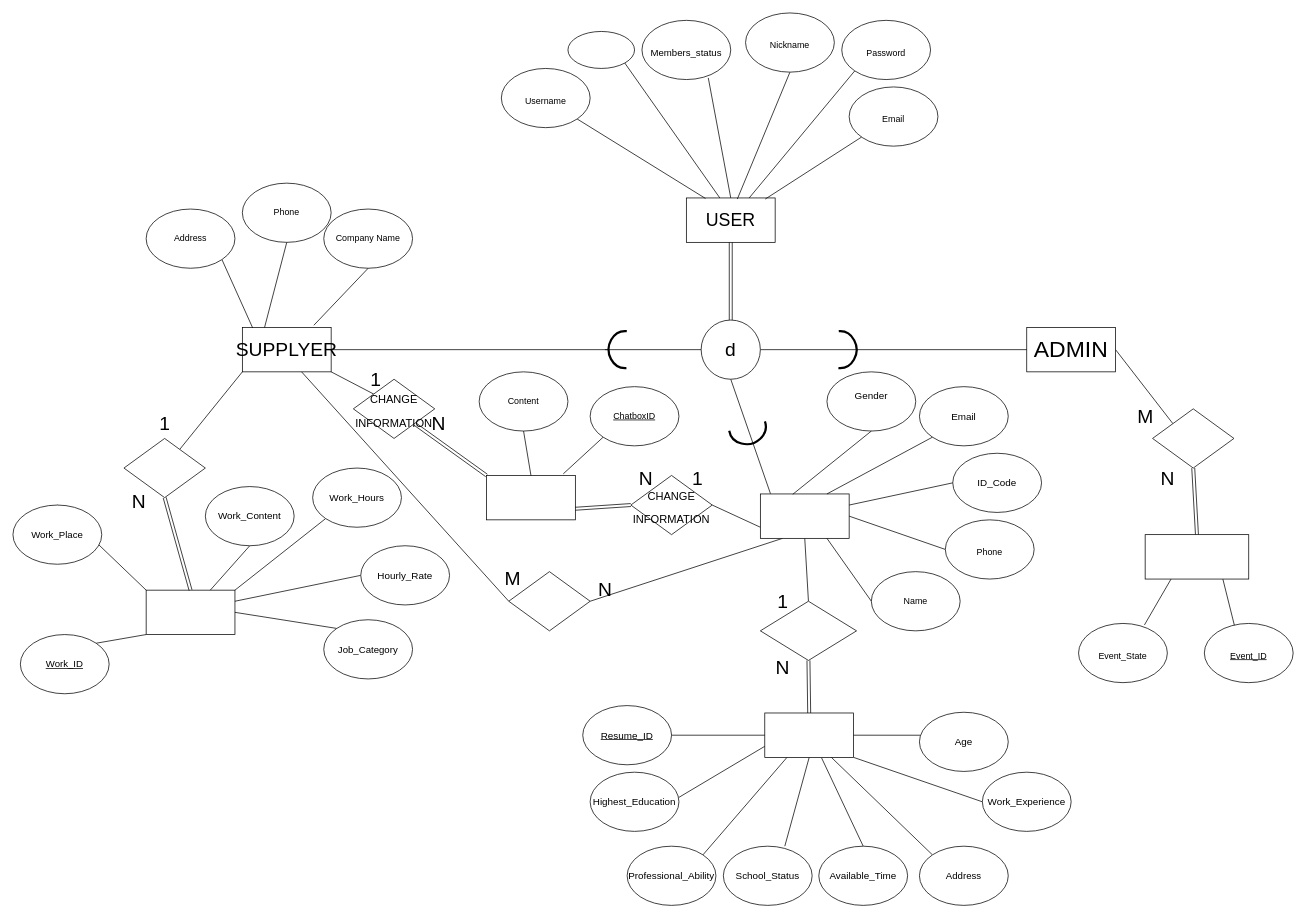
This 1306x918 diagram has some shape labels left out. Each missing label, with the box of its shape:
CANDIDATE: (760, 493, 849, 538)
CHATBOX: (486, 475, 575, 520)
Id: (567, 31, 635, 68)
POST: (123, 438, 205, 498)
RESUME: (764, 712, 854, 757)
SET_RESUME: (508, 571, 590, 631)
TO_DO: (1152, 408, 1234, 468)
TO_DO_THING: (1144, 534, 1249, 579)
Work: (145, 589, 235, 635)
WRITE: (760, 601, 857, 660)
